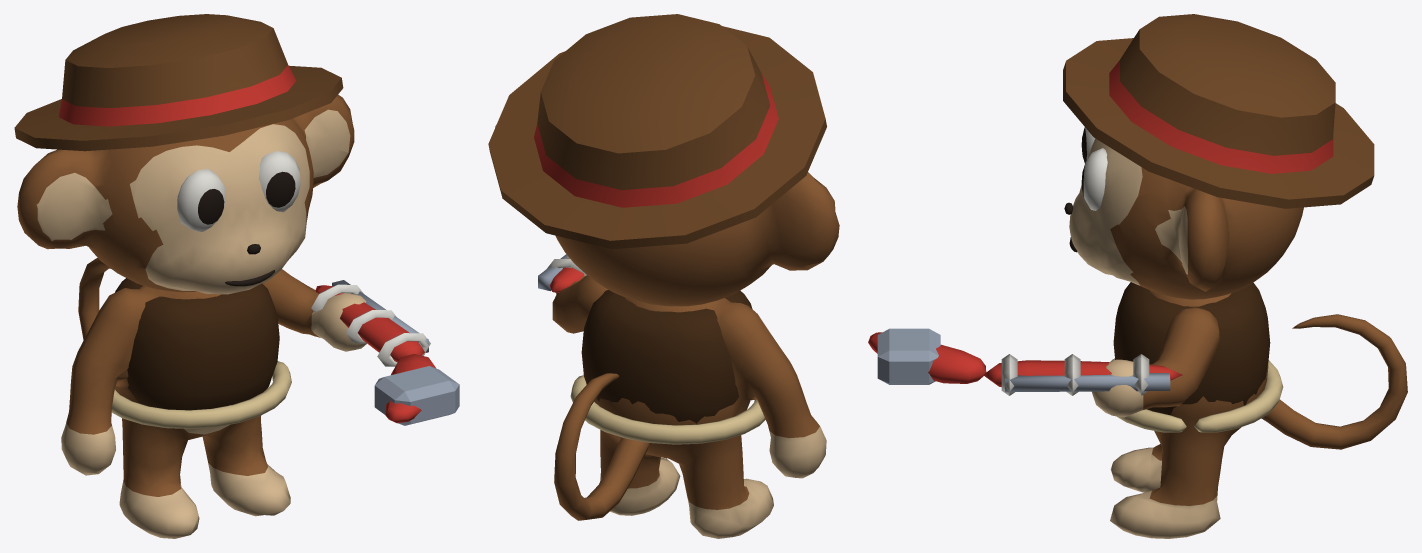
3 renders of one model, left to right at view 1: azimuth 30°, elevation 25°; view 2: azimuth 150°, elevation 25°; view 3: azimuth 270°, elevation 25°, orthographic. The views are drawn at different scales.
Visible parts, largest first — view 1: bumerangue_2_cabeca, bumerangue_0_corpo, bumerangue_3_braco, bumerangue_1_cauda; view 2: bumerangue_2_cabeca, bumerangue_0_corpo, bumerangue_1_cauda, bumerangue_3_braco; view 3: bumerangue_2_cabeca, bumerangue_0_corpo, bumerangue_3_braco, bumerangue_1_cauda.
Boxes of the visible parts, x1,y1,x2,y2 form: bumerangue_2_cabeca: [14, 14, 354, 294]; bumerangue_0_corpo: [61, 278, 291, 538]; bumerangue_3_braco: [262, 269, 459, 425]; bumerangue_1_cauda: [78, 257, 110, 339]; bumerangue_2_cabeca: [488, 14, 839, 306]; bumerangue_0_corpo: [570, 290, 826, 538]; bumerangue_1_cauda: [554, 373, 649, 520]; bumerangue_3_braco: [538, 254, 607, 333]; bumerangue_2_cabeca: [1063, 14, 1374, 299]; bumerangue_0_corpo: [1110, 282, 1283, 538]; bumerangue_3_braco: [868, 307, 1219, 417]; bumerangue_1_cauda: [1261, 314, 1407, 449].
Bounding box in the file's own units: 0.7918 × 1.08 × 1.11.
